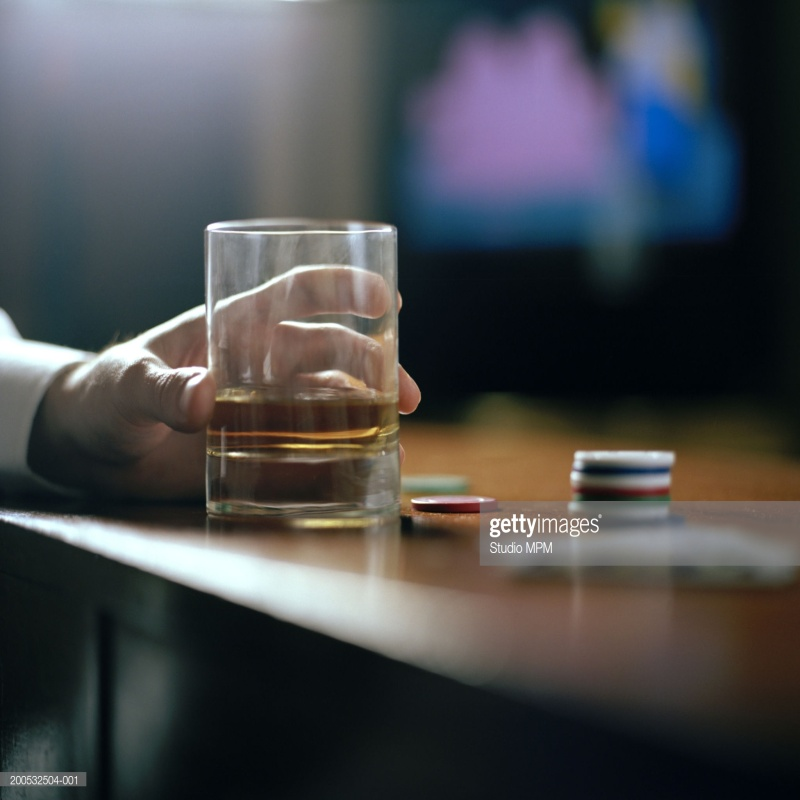whiskey: (203, 215, 412, 519)
